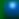blue: (0, 0, 19, 19)
